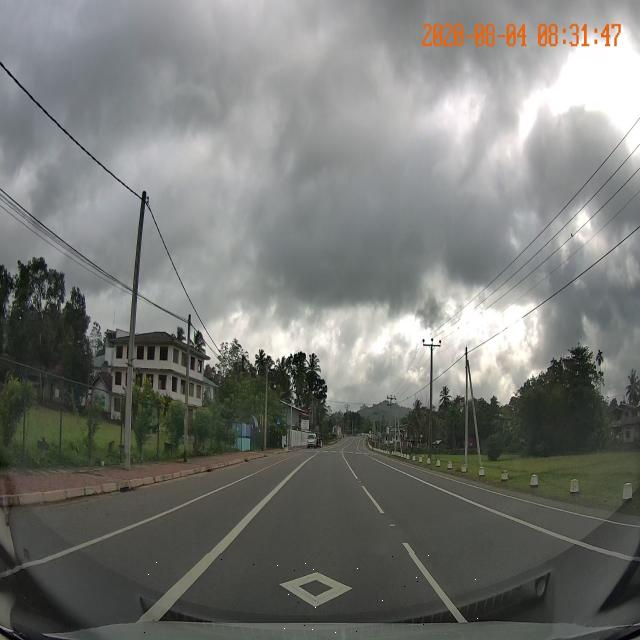diamond: (140, 553, 481, 635)
